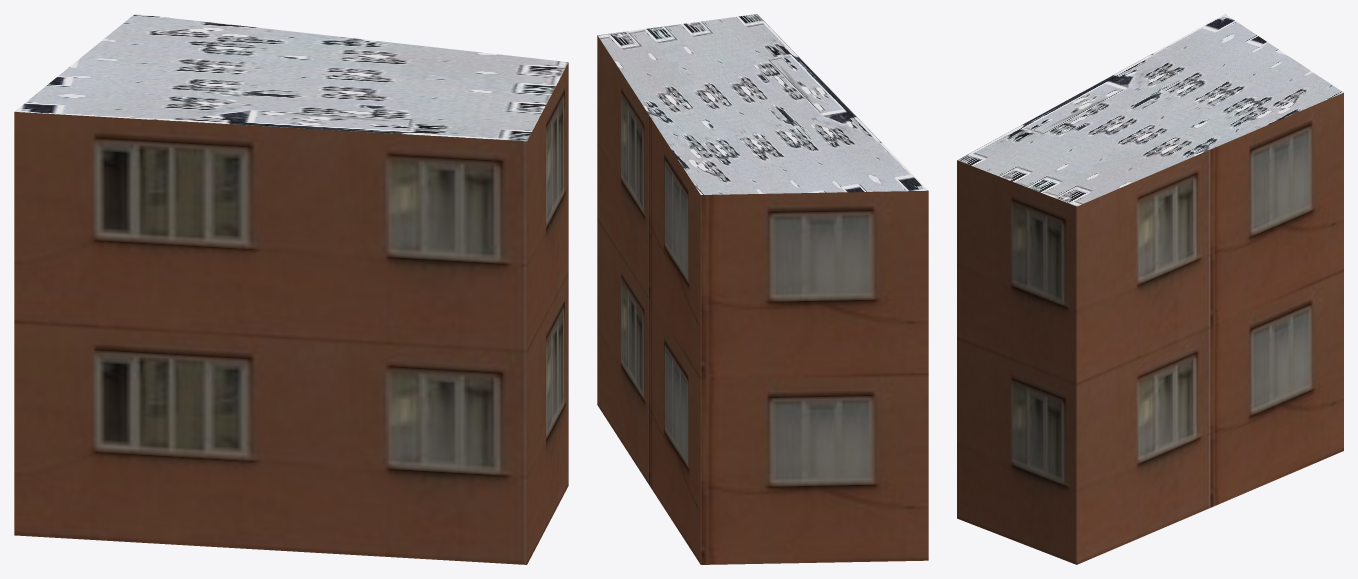
File: ResTex__4349.fbx
The picture shows the model from 3 angles, left to right: view 1: azimuth 30°, elevation 25°; view 2: azimuth 150°, elevation 25°; view 3: azimuth 270°, elevation 25°; orthographic projection. The views are drawn at different scales.
Visible parts, largest first — view 1: CityEngineMaterial_20_m, CityEngineMaterial_m; view 2: CityEngineMaterial_20_m, CityEngineMaterial_m; view 3: CityEngineMaterial_20_m, CityEngineMaterial_m.
Part boxes in pixels (left/top/right/bottom): CityEngineMaterial_20_m: left=14, top=63, right=568, bottom=564; CityEngineMaterial_m: left=14, top=14, right=568, bottom=141; CityEngineMaterial_20_m: left=597, top=35, right=928, bottom=564; CityEngineMaterial_m: left=598, top=14, right=927, bottom=194; CityEngineMaterial_20_m: left=957, top=92, right=1343, bottom=564; CityEngineMaterial_m: left=957, top=14, right=1343, bottom=206.
Size of the model in its own units: 6.92 by 6 by 5.87.
2 materials, 2 textured.
